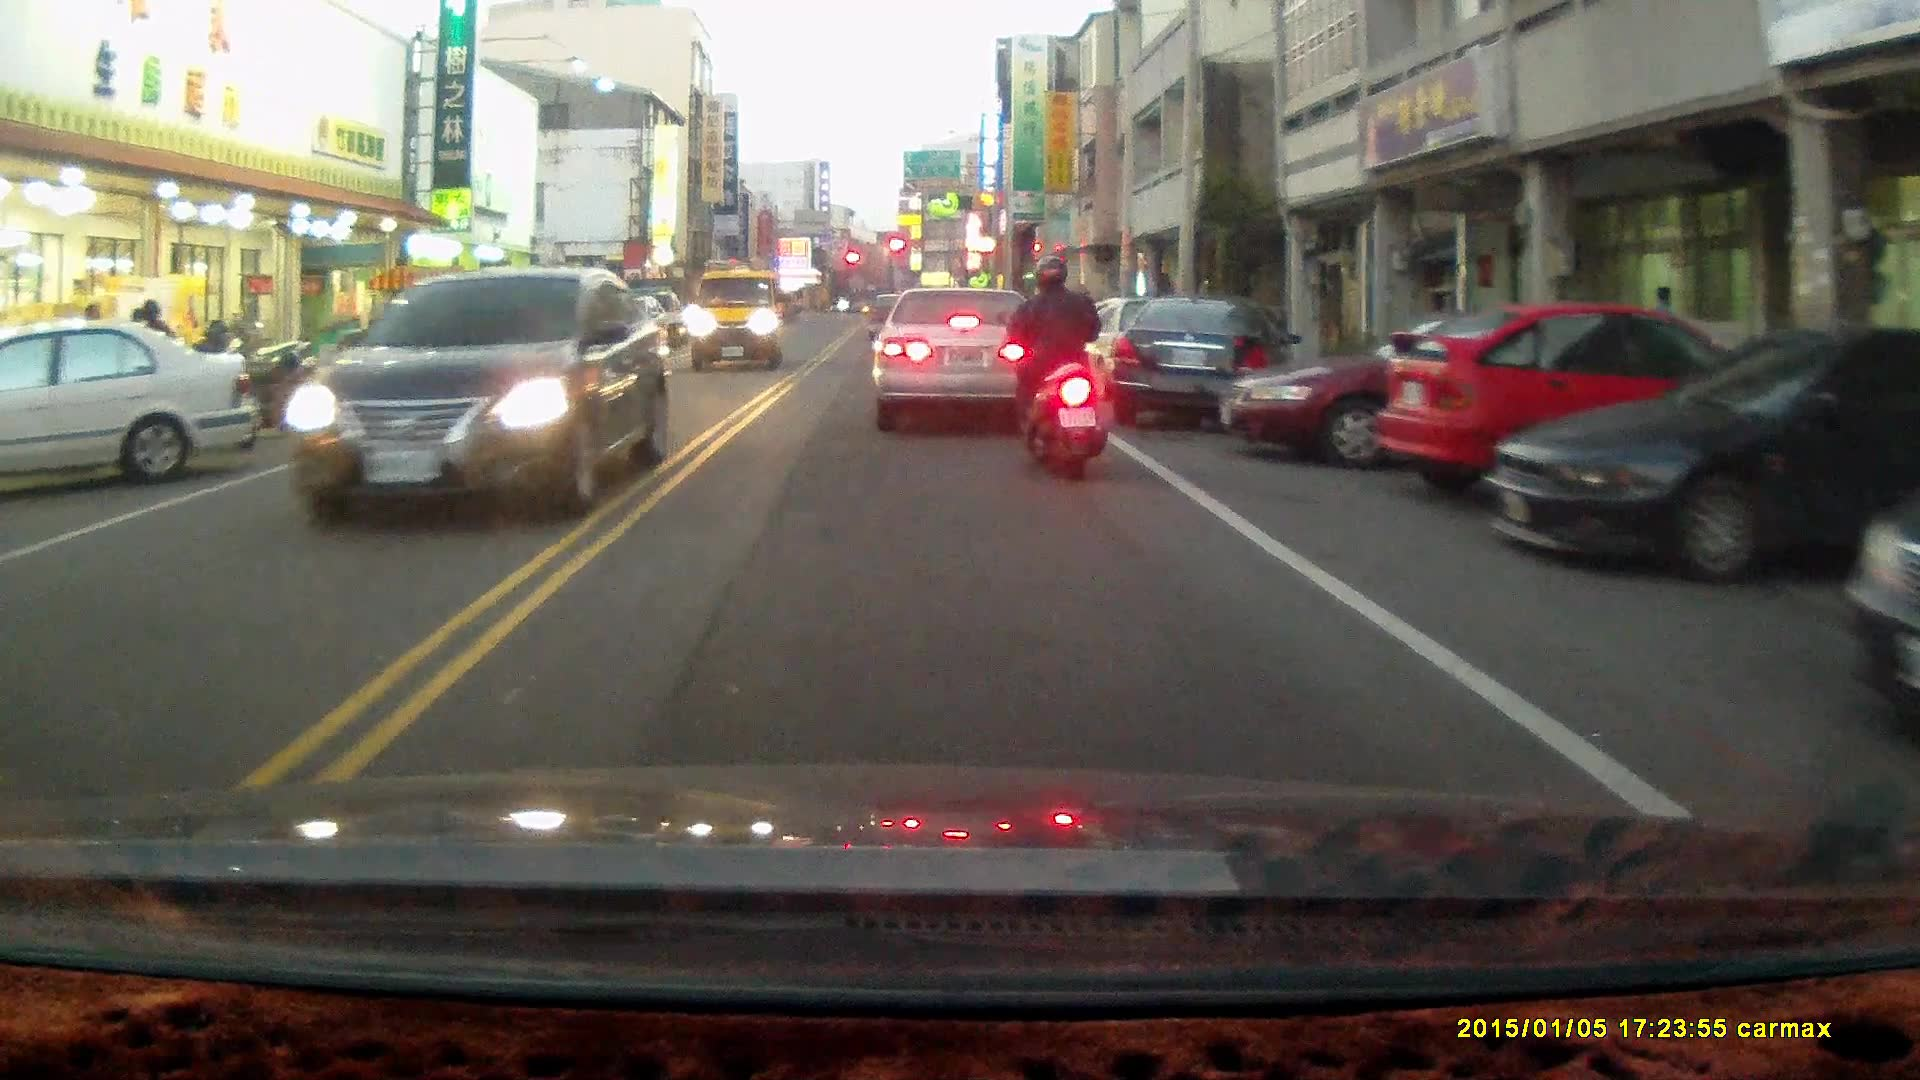rider: (997, 253, 1114, 481)
vehicle: (1480, 323, 1920, 584), (288, 263, 673, 521), (1375, 301, 1784, 509), (1215, 312, 1654, 467), (1, 318, 250, 495), (869, 282, 1046, 421), (1101, 294, 1274, 428), (1854, 507, 1920, 724), (687, 266, 784, 370)
